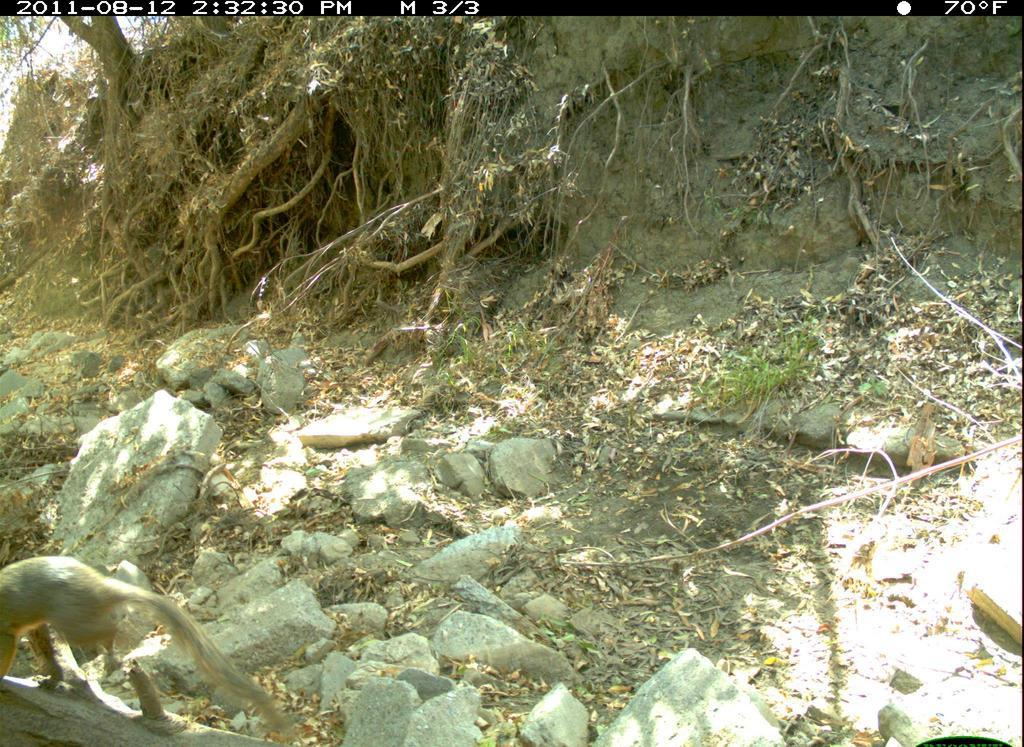squirrel: (3, 543, 305, 742)
